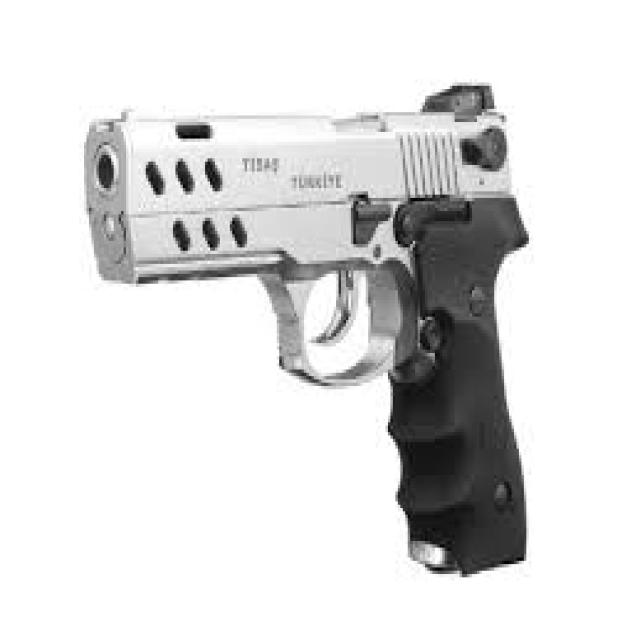pistol: (79, 75, 540, 588)
